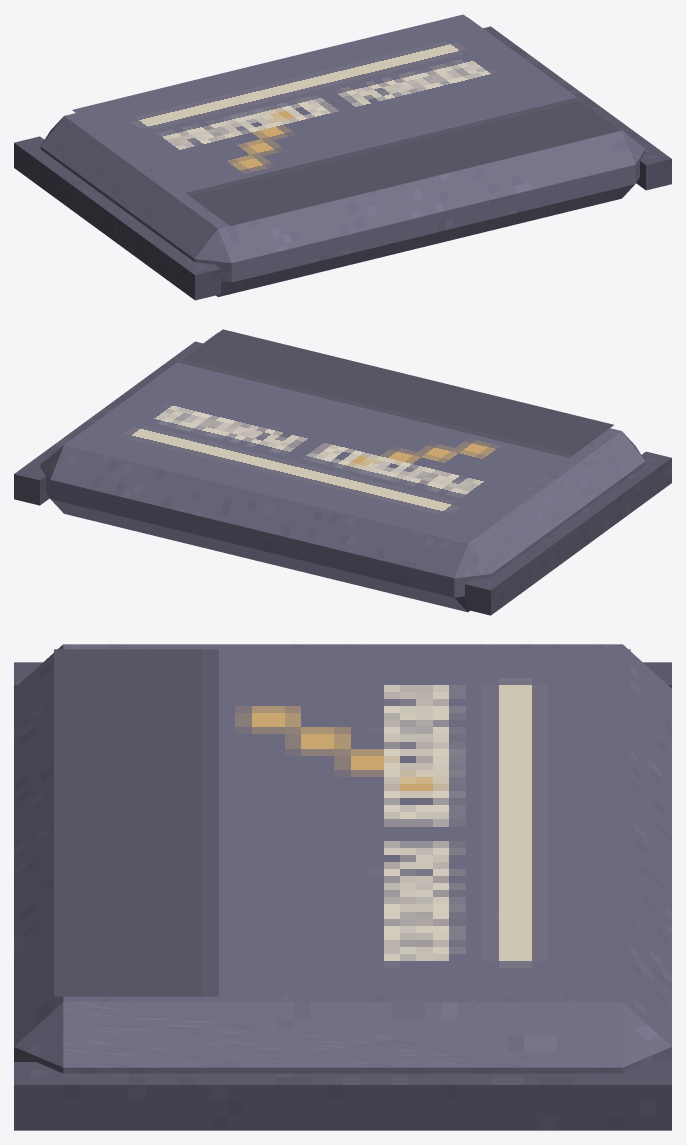
The model's file is protein_powder.glb.
The picture shows the model from 3 angles, top to bottom: view 1: azimuth 30°, elevation 25°; view 2: azimuth 150°, elevation 25°; view 3: azimuth 270°, elevation 25°; orthographic projection. The views are drawn at different scales.
Parts seen in each view (by area): view 1: block_printed sachet panel, block_filled laminated sachet, block_crimped closure (×2); view 2: block_printed sachet panel, block_filled laminated sachet, block_crimped closure (×2); view 3: block_printed sachet panel, block_filled laminated sachet, block_crimped closure (×2).
Boxes of the visible parts, left/top/right/bottom form: block_printed sachet panel: left=72, top=14, right=621, bottom=225; block_filled laminated sachet: left=40, top=17, right=645, bottom=296; block_crimped closure (×2): left=14, top=26, right=671, bottom=300; block_printed sachet panel: left=64, top=329, right=613, bottom=540; block_filled laminated sachet: left=40, top=333, right=645, bottom=612; block_crimped closure (×2): left=14, top=341, right=671, bottom=615; block_printed sachet panel: left=54, top=649, right=630, bottom=996; block_filled laminated sachet: left=14, top=644, right=671, bottom=1073; block_crimped closure (×2): left=14, top=662, right=671, bottom=1130.
Size of the model in its own units: 0.0573 by 0.00809 by 0.0377.
1 material, 1 textured.
